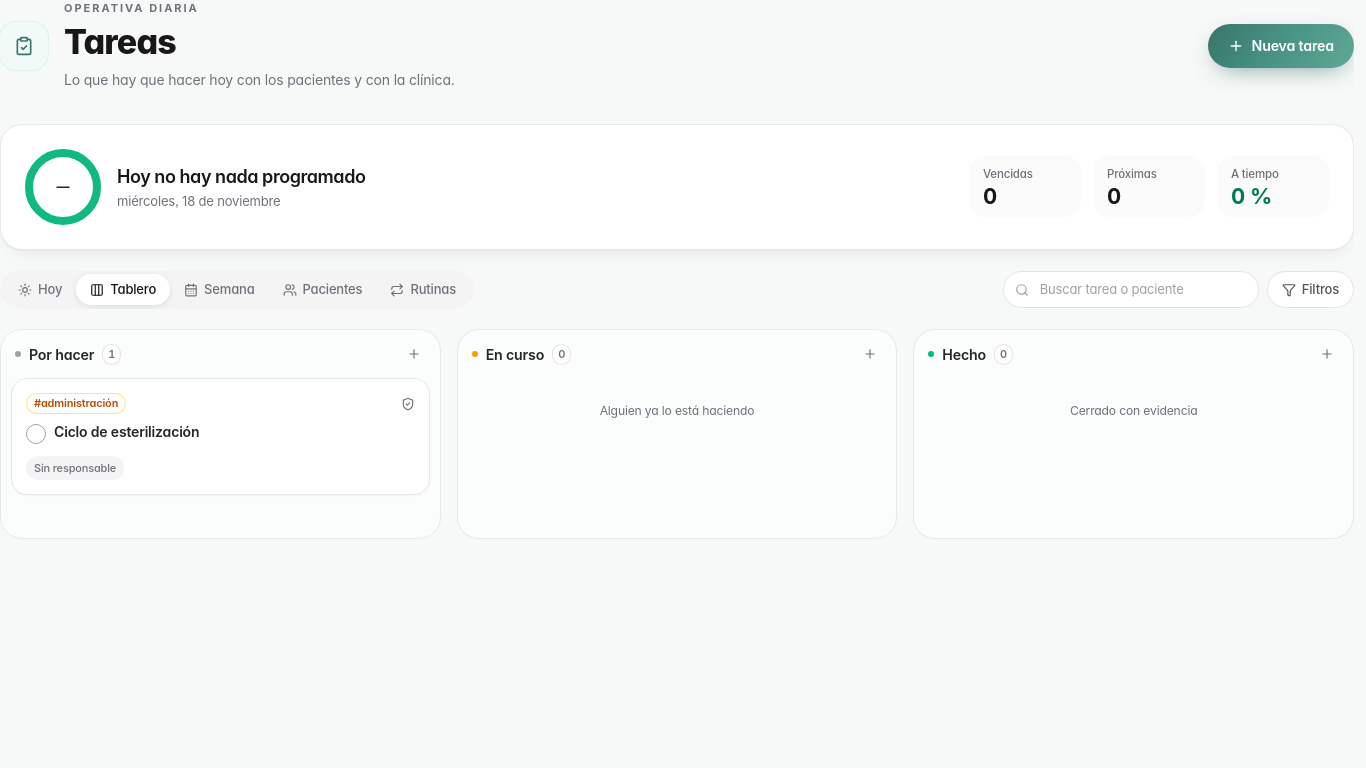
Test: TasksWorkspace — gate de evidencia en el cliente › no llama a la API, avisa y abre el detalle
The width and height of the screenshot is (1366, 768).
Click the button "Hoy". click: [40, 290]
box: [4, 274, 76, 305]
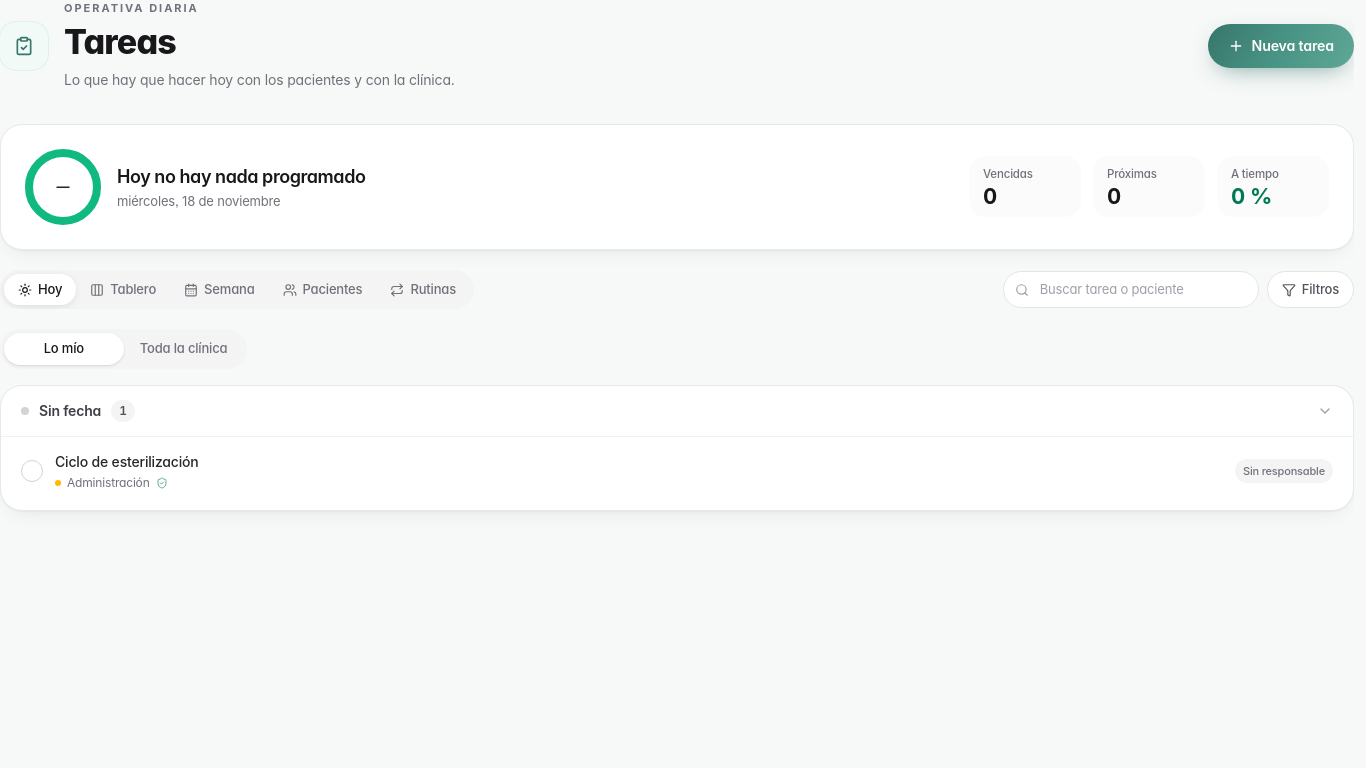
Click the button named "Marcar como hecha". click: [32, 471]
box: [21, 460, 43, 482]
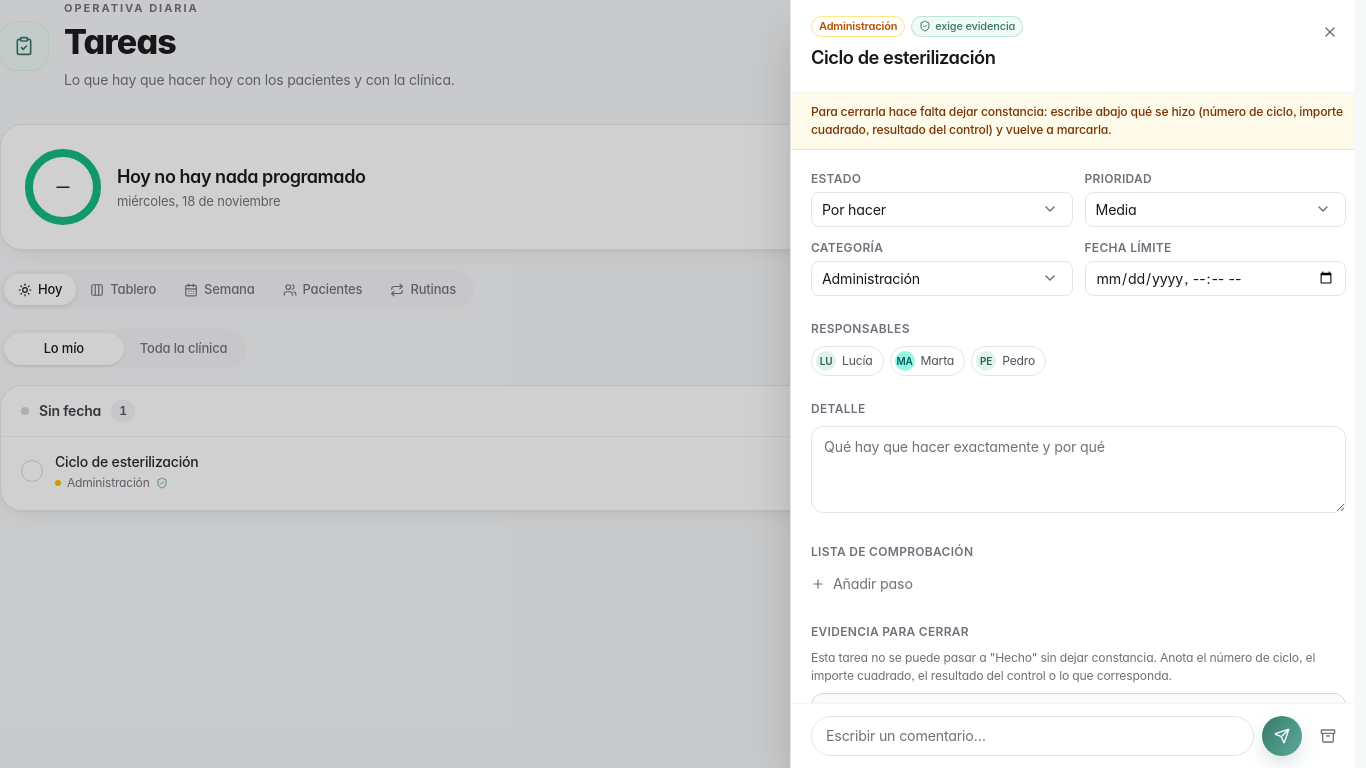
Expected: the text "hace falta dejar constancia" is shown, [811, 104, 1343, 137]
Expected: the heading "Evidencia para cerrar" is shown, [811, 624, 969, 639]
